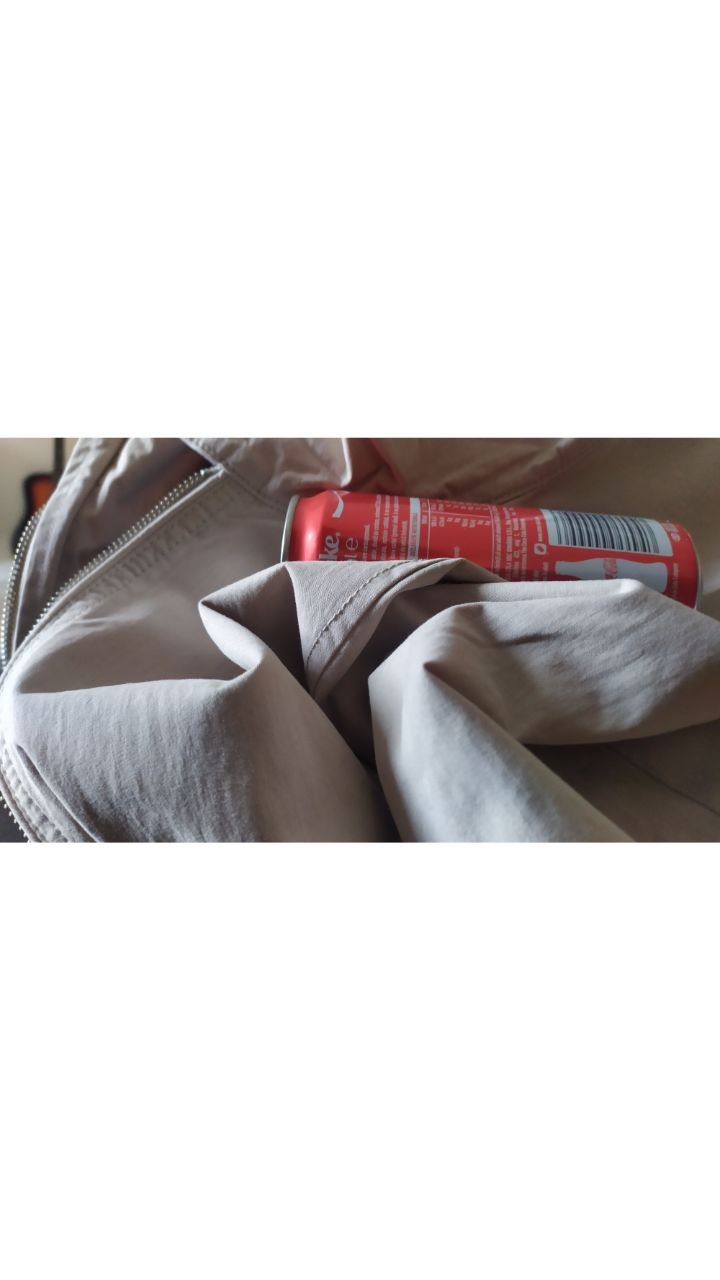Can: (272, 480, 712, 621)
